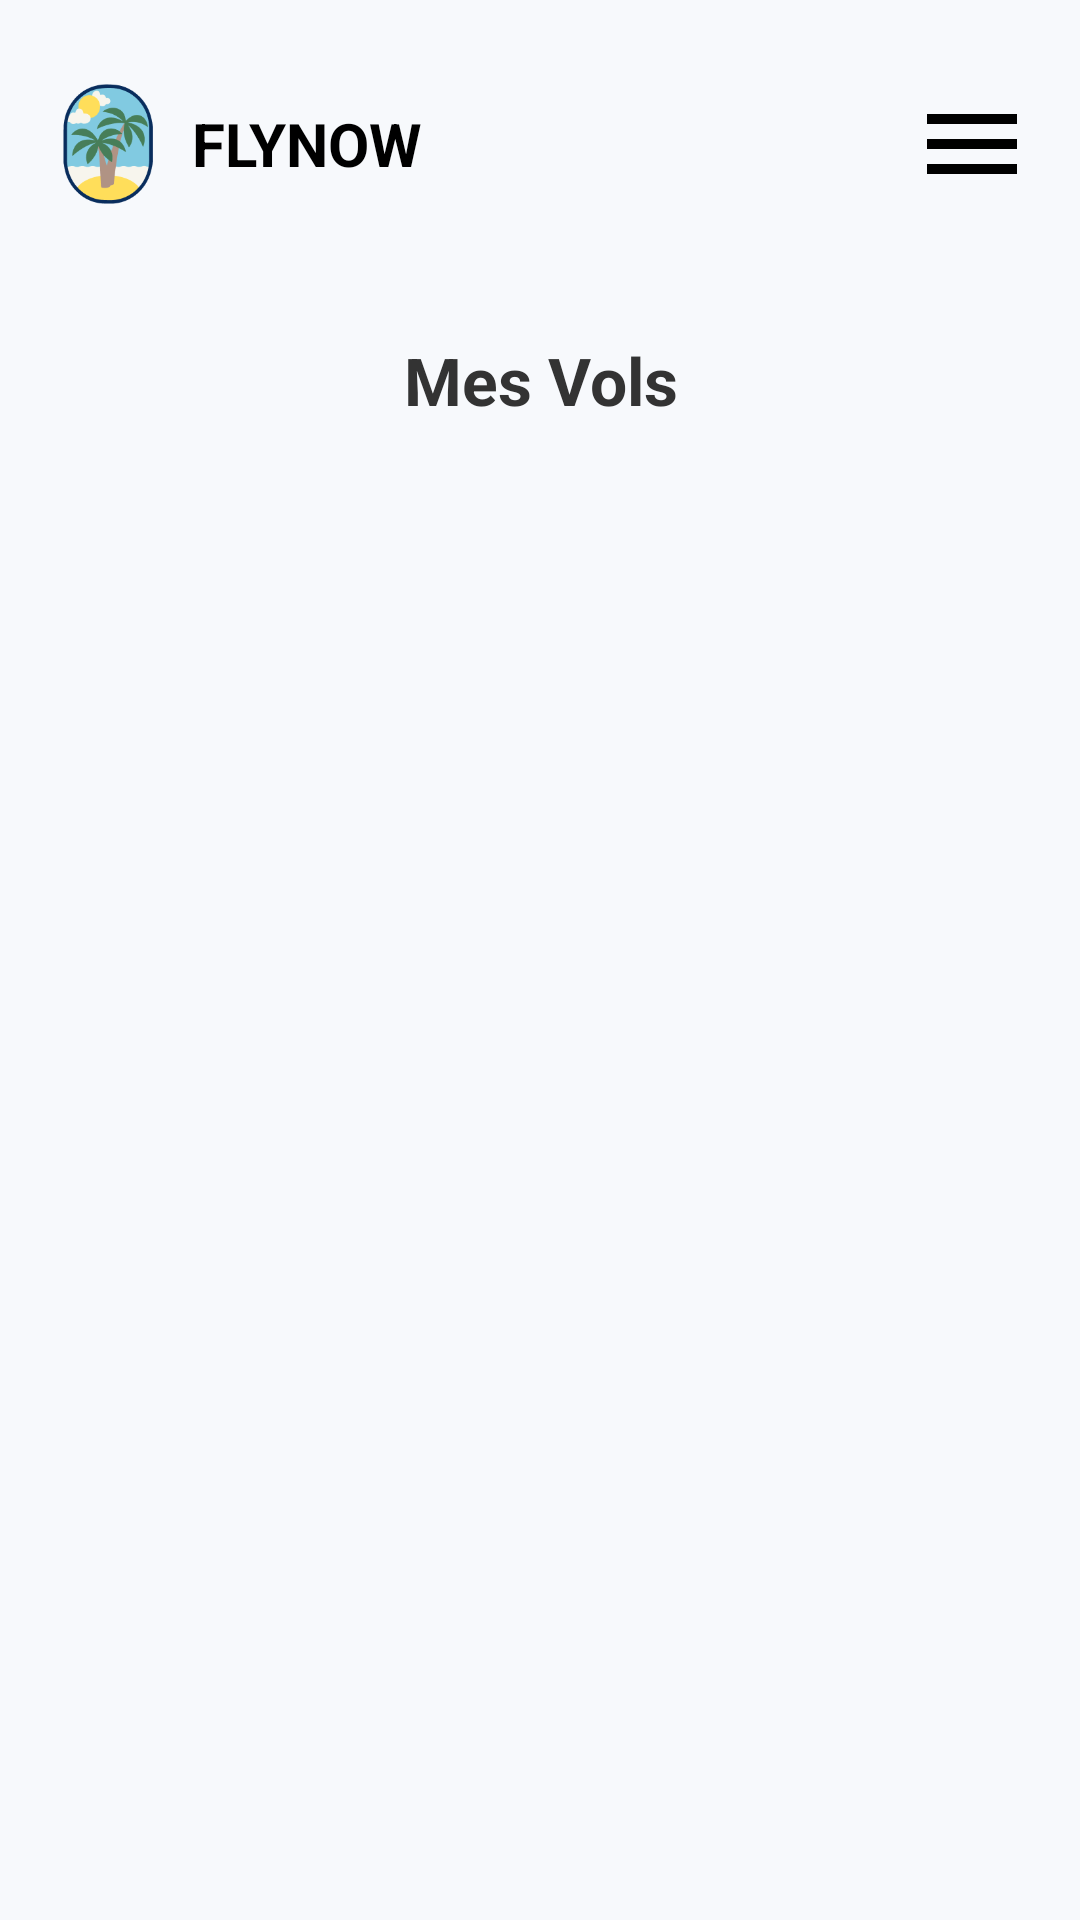

Icons on this 1080×1920 Android screen, each with its box as (x1, y1, x2, y2):
Menu: (927, 114, 1017, 174)
